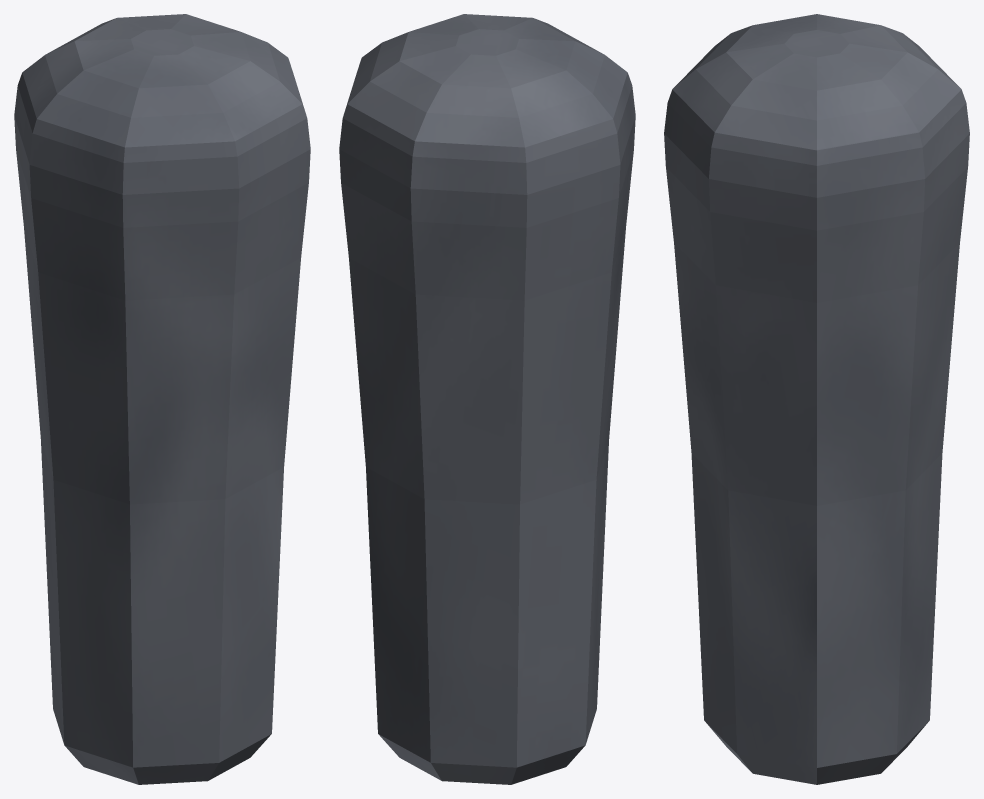
File: Collin_StonePestal.fbx
3 renders of one model, left to right at view 1: azimuth 30°, elevation 25°; view 2: azimuth 150°, elevation 25°; view 3: azimuth 270°, elevation 25°, orthographic.
Parts seen in each view (by area): view 1: pestal; view 2: pestal; view 3: pestal.
Boxes of the visible parts, bbox=[...] form: pestal: bbox=[14, 14, 310, 784]; pestal: bbox=[339, 14, 635, 784]; pestal: bbox=[664, 14, 969, 784].
Bounding box in the file's own units: 6 × 15.22 × 6.
1 material, 1 textured.
